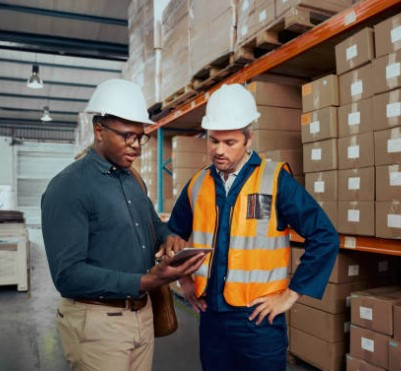worker: (189, 85, 292, 305)
